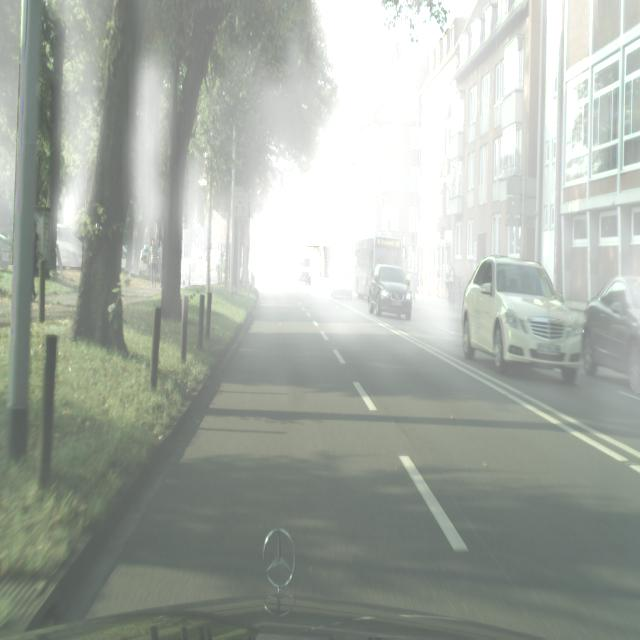bicycle: (354, 232, 404, 301)
train: (293, 248, 312, 286), (271, 246, 288, 279)
truck: (461, 255, 584, 385), (582, 275, 640, 391), (369, 262, 413, 320), (330, 264, 353, 299), (0, 231, 13, 269), (139, 244, 151, 274), (249, 257, 259, 271)
